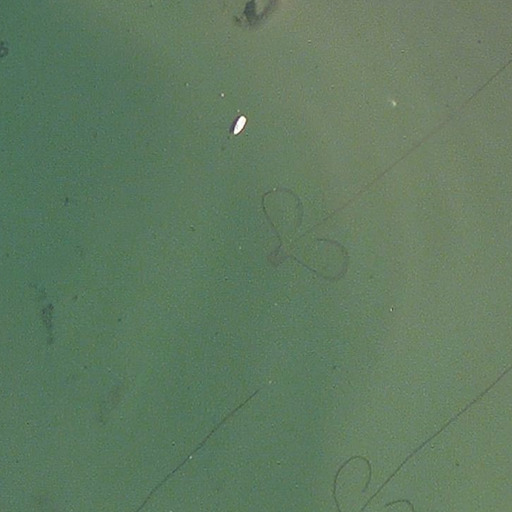ship: (232, 115, 247, 138)
